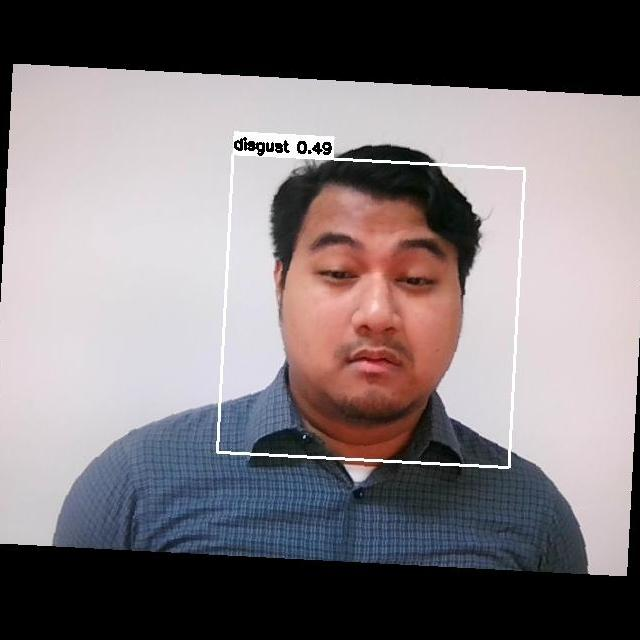Fear: (273, 215, 467, 396)
